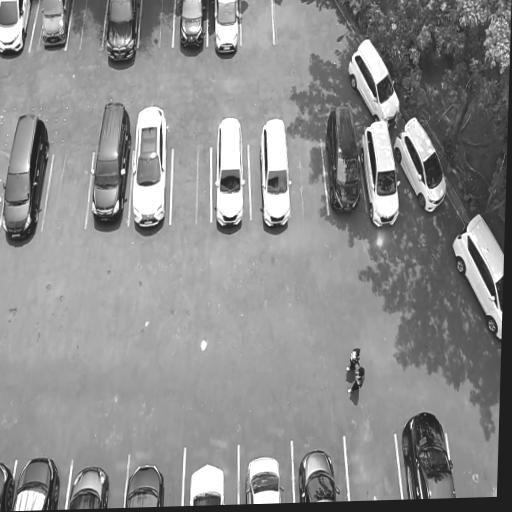Car: (448, 200, 504, 348), (390, 106, 454, 220), (0, 113, 56, 241), (342, 28, 408, 130), (89, 99, 135, 232), (398, 405, 463, 499), (359, 115, 405, 230), (129, 104, 170, 233), (322, 101, 362, 225), (256, 110, 294, 238), (211, 110, 247, 240), (12, 451, 65, 511), (295, 437, 343, 503), (101, 0, 142, 70), (68, 462, 114, 510), (125, 458, 169, 508), (0, 0, 34, 60), (244, 456, 286, 504), (37, 0, 71, 54), (212, 0, 242, 60), (189, 462, 228, 506), (177, 0, 207, 55), (0, 452, 16, 512)
Space Available: (41, 152, 94, 229), (344, 431, 401, 501), (288, 136, 329, 216), (171, 146, 210, 223), (66, 0, 108, 49), (139, 0, 175, 48), (240, 0, 275, 42), (0, 157, 9, 223)
